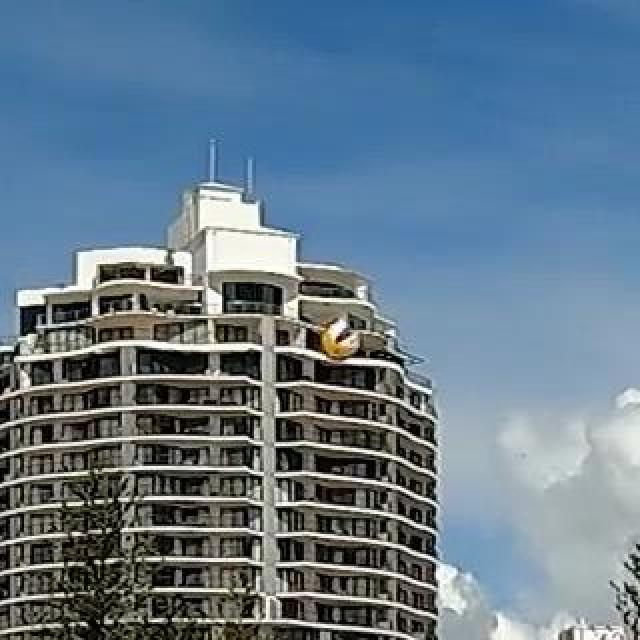volleyball: (321, 321, 359, 359)
